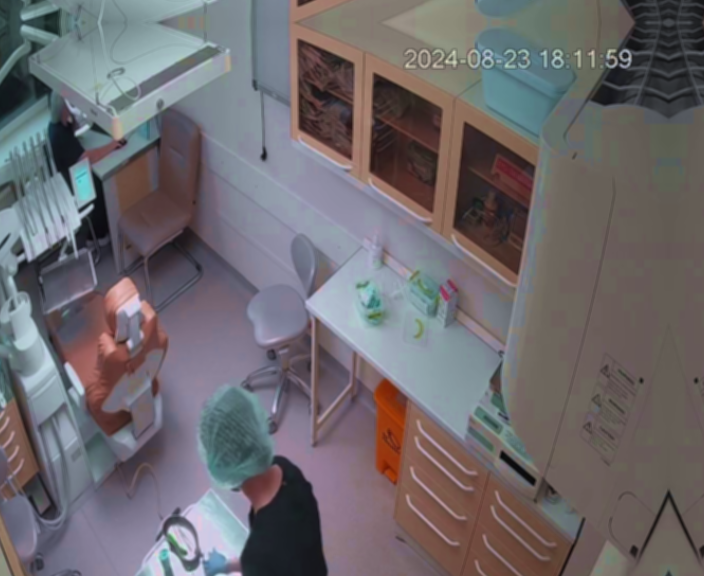Empty: (48, 280, 168, 462)
